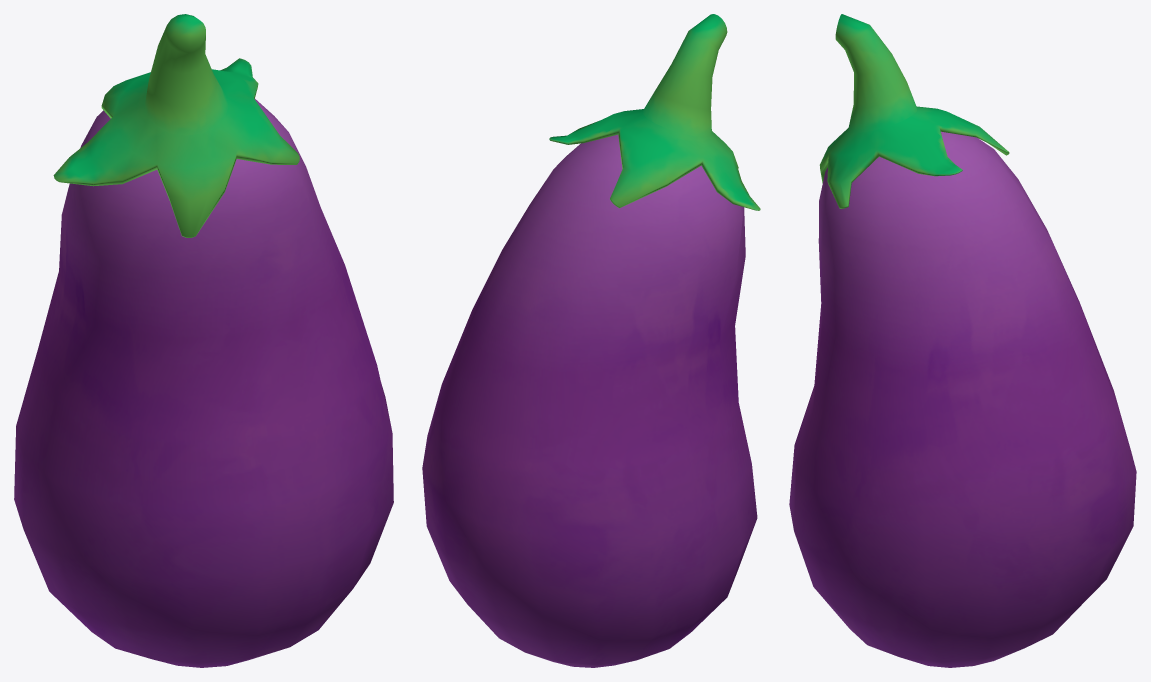
The model's file is eggplant.glb.
3 views of the same model, side by side, from view 1: azimuth 30°, elevation 25°; view 2: azimuth 150°, elevation 25°; view 3: azimuth 270°, elevation 25° (orthographic). The views are drawn at different scales.
Visible parts, largest first — view 1: Eggplant; view 2: Eggplant; view 3: Eggplant.
Boxes of the visible parts, x1,y1,x2,y2 form: Eggplant: [14, 14, 393, 667]; Eggplant: [422, 14, 760, 667]; Eggplant: [789, 14, 1136, 667].
Size of what is drawn, in the model's own units: 0.8461 by 1.68 by 0.8756.
1 material, 1 textured.
